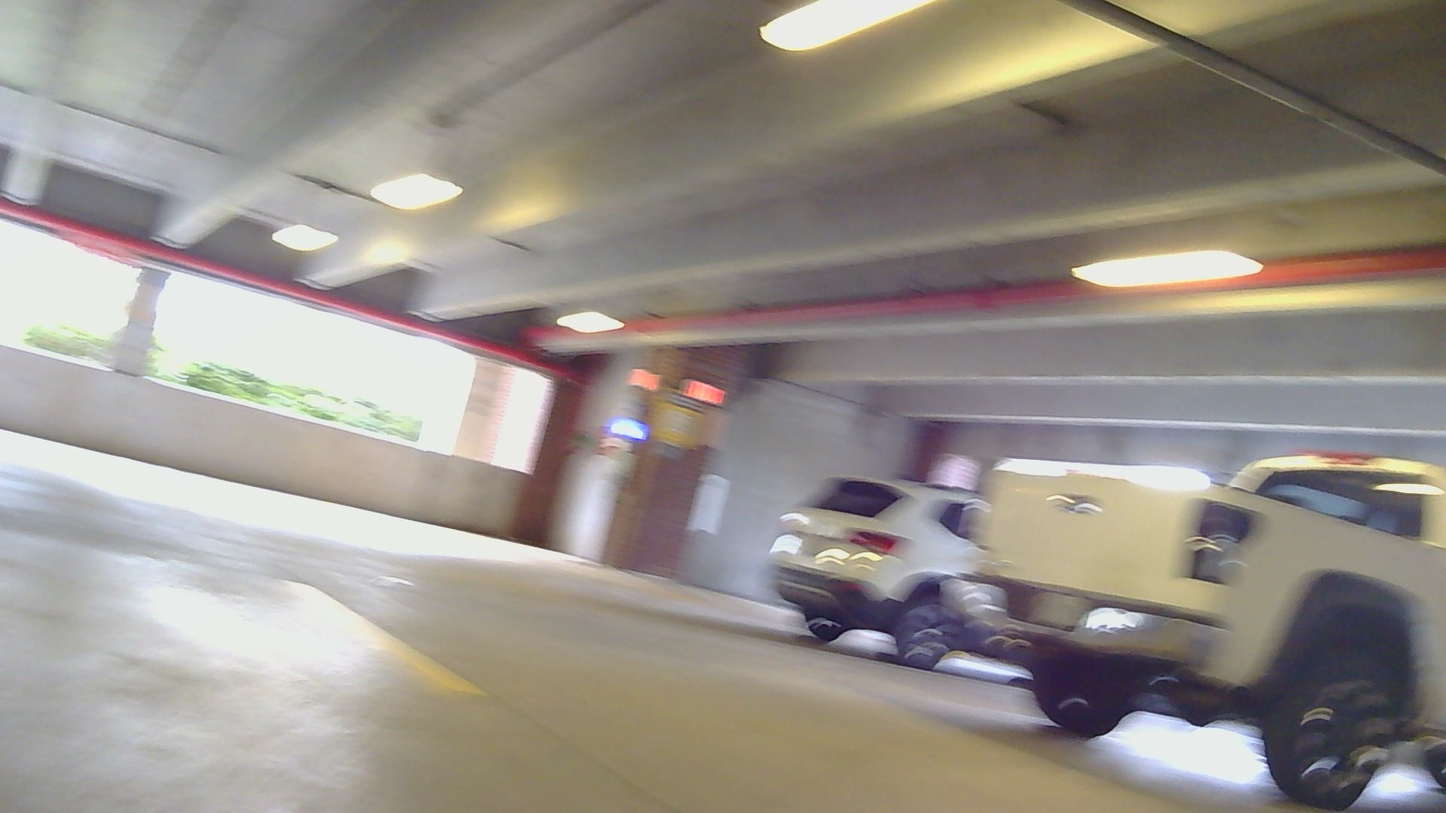occupied_spot: (952, 452, 1445, 812), (754, 447, 1061, 693)
